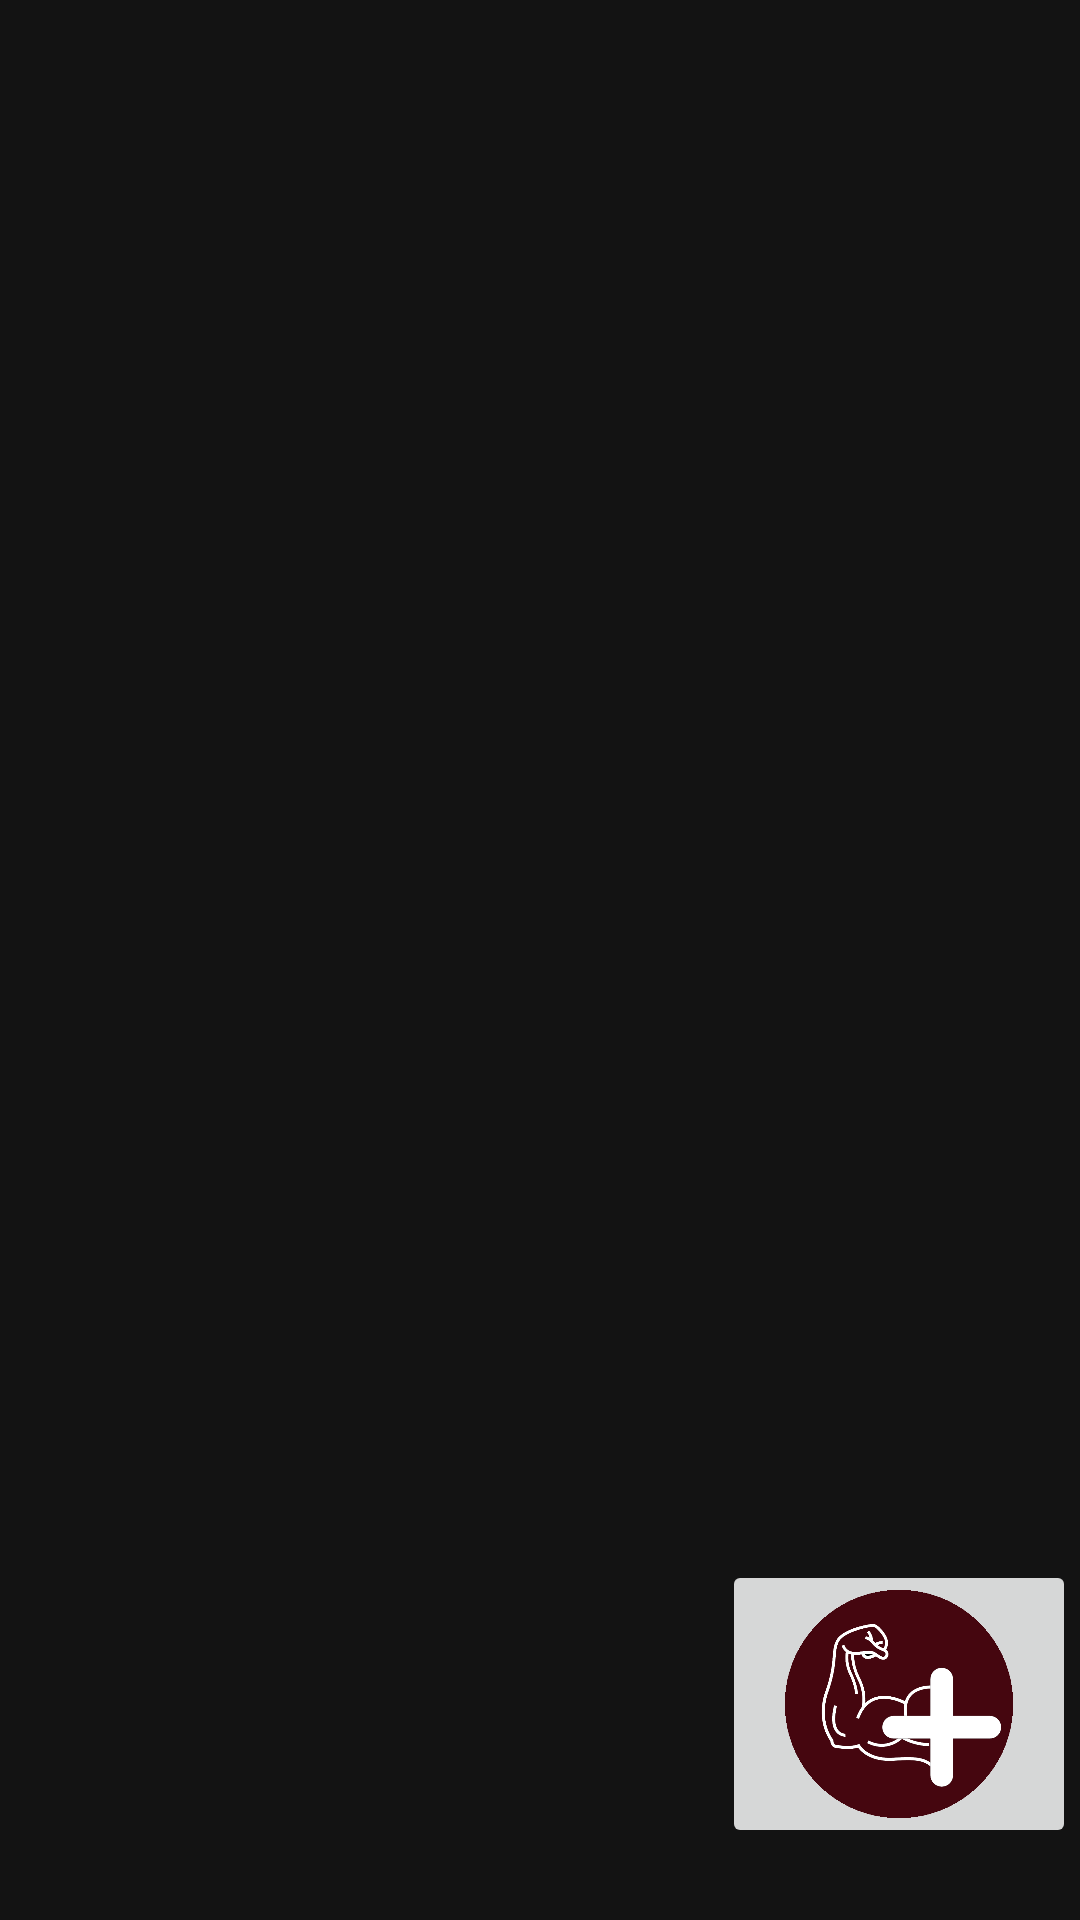

Icons on this 1080 × 1920 Android screen, each with its box as [x1, y1, x2, y2]:
botonaddejercicio: [734, 1578, 1064, 1830]
